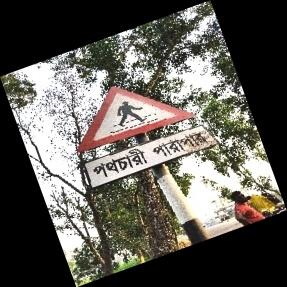Pedestrian-crossing: (77, 85, 215, 188)
